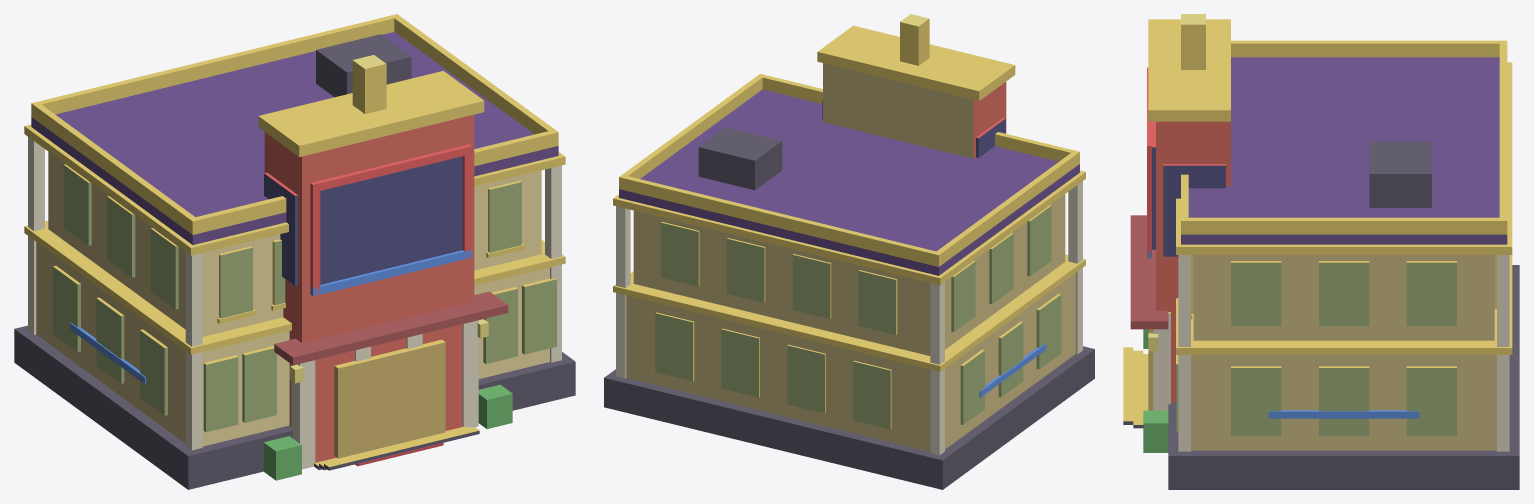
File: Casino.fbx
3 views of the same model, side by side, from view 1: azimuth 30°, elevation 25°; view 2: azimuth 150°, elevation 25°; view 3: azimuth 270°, elevation 25° (orthographic). The views are drawn at different scales.
Visible parts, largest first — view 1: Casino; view 2: Casino; view 3: Casino.
Part boxes in pixels (<box>): Casino: <box>14,14,575,489</box>; Casino: <box>604,14,1094,489</box>; Casino: <box>1123,14,1519,489</box>.
Size of the model in its own units: 1800 by 1650 by 1580.
